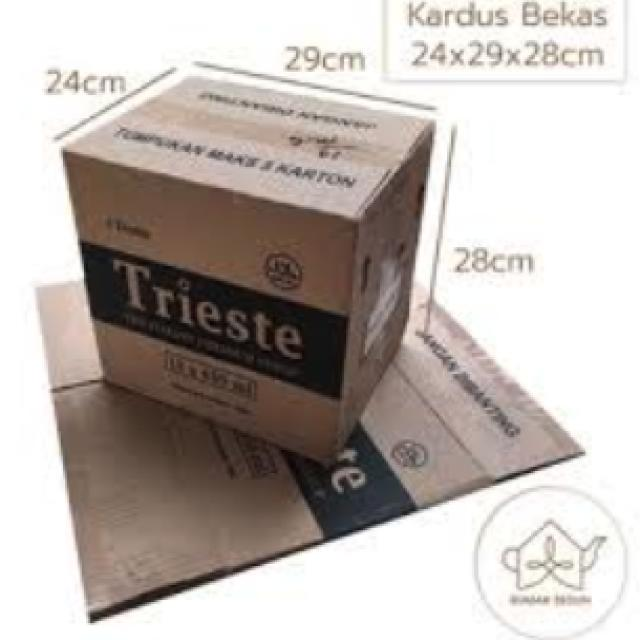Kardus: (38, 284, 586, 624), (52, 59, 445, 467)
